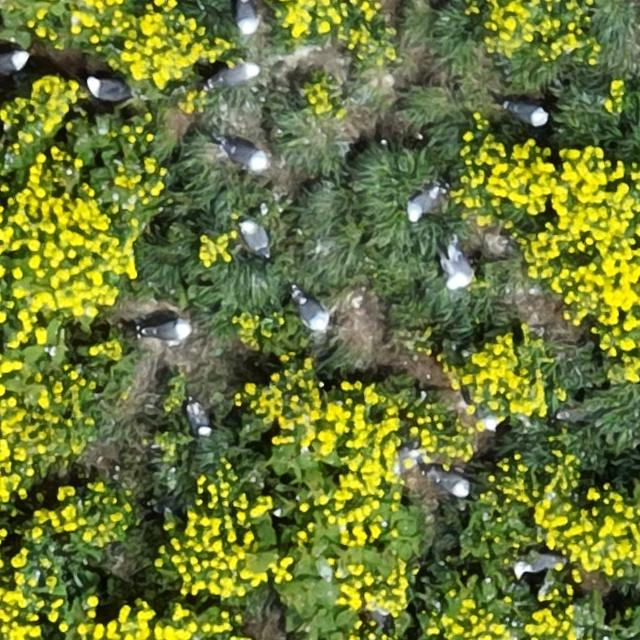umineko: (440, 247, 476, 294), (210, 62, 258, 85), (224, 145, 266, 170), (297, 294, 326, 328), (432, 472, 470, 497), (85, 78, 128, 100), (240, 221, 267, 256), (407, 188, 437, 219), (506, 104, 546, 126), (146, 322, 189, 342), (518, 553, 558, 572), (235, 1, 257, 35), (188, 403, 210, 436), (0, 51, 28, 73)
